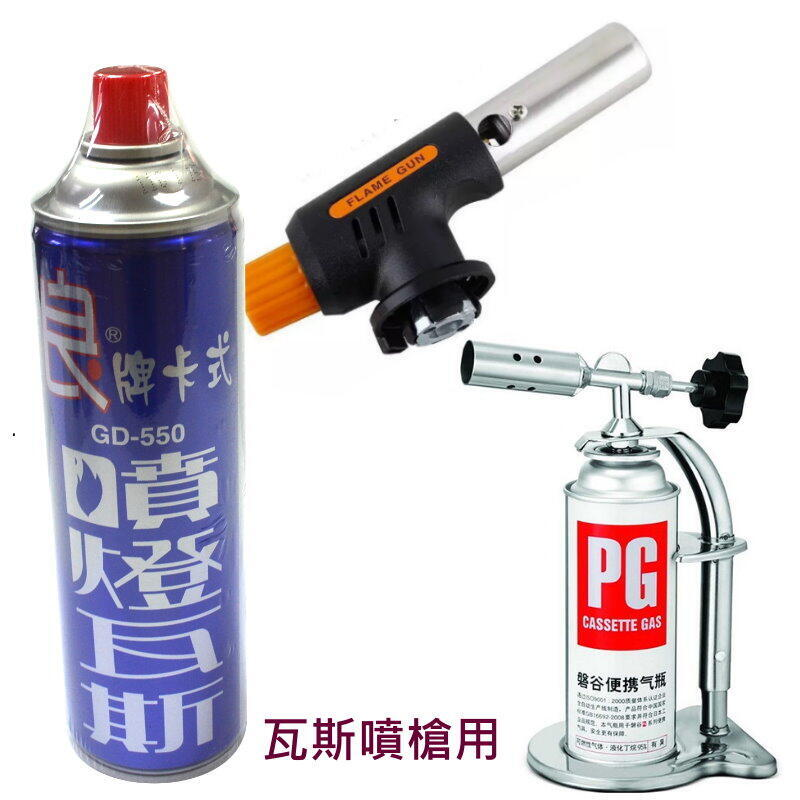gastorch: (464, 337, 784, 784)
